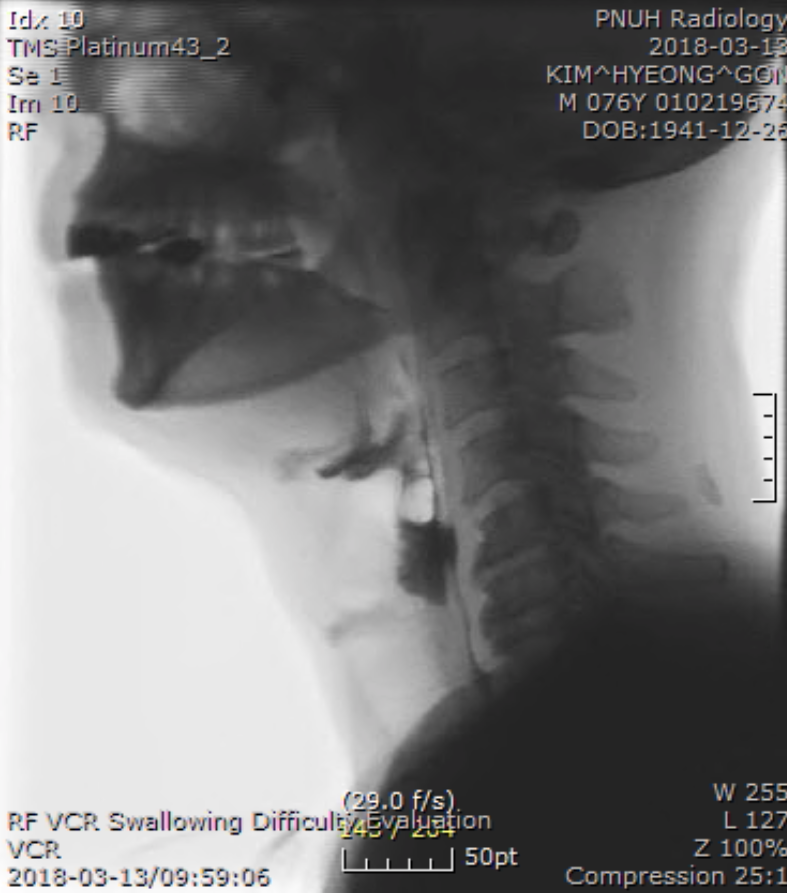dros: (418, 535, 484, 610)
food: (299, 400, 474, 631)
uros: (320, 440, 392, 492)
